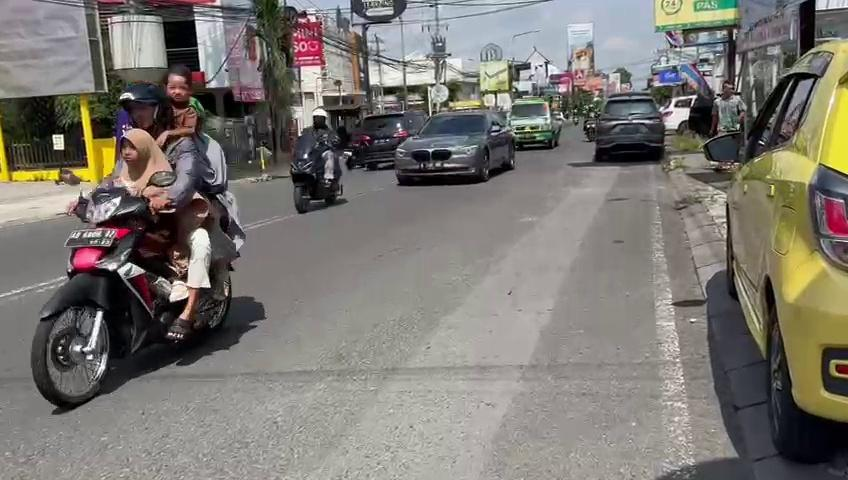helm: (117, 76, 169, 130)
nohelm: (165, 66, 195, 106)
riding: (34, 57, 251, 421)
